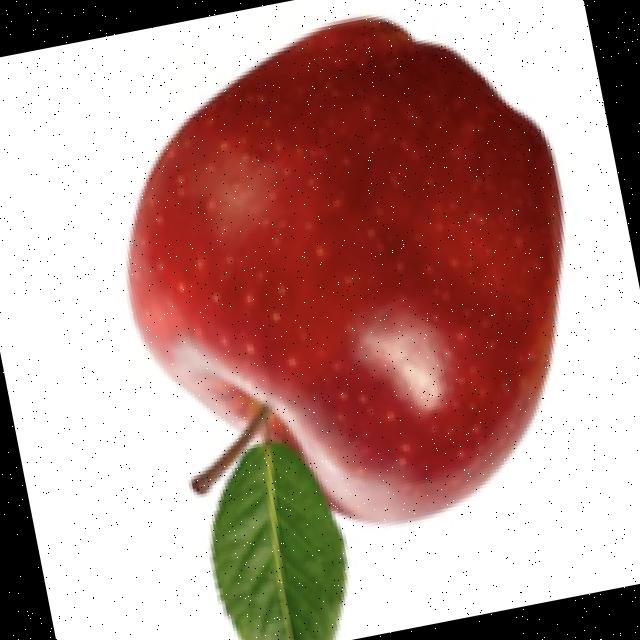apple: (121, 12, 568, 640)
